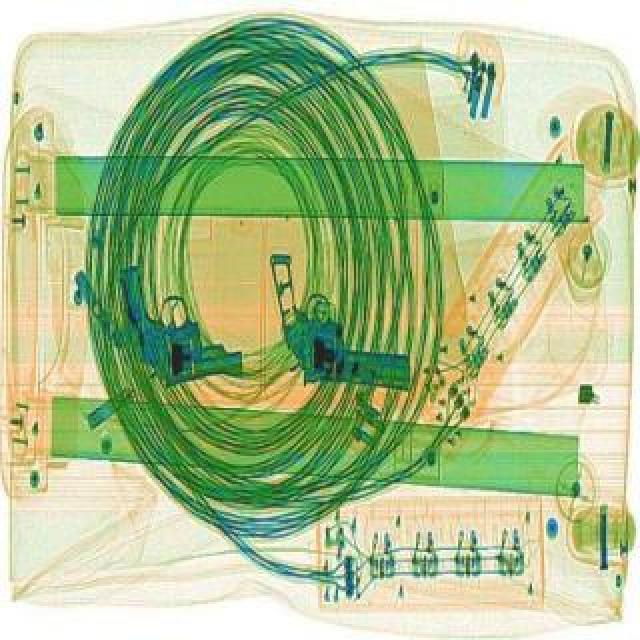gun: (248, 248, 430, 388), (110, 246, 246, 392)
